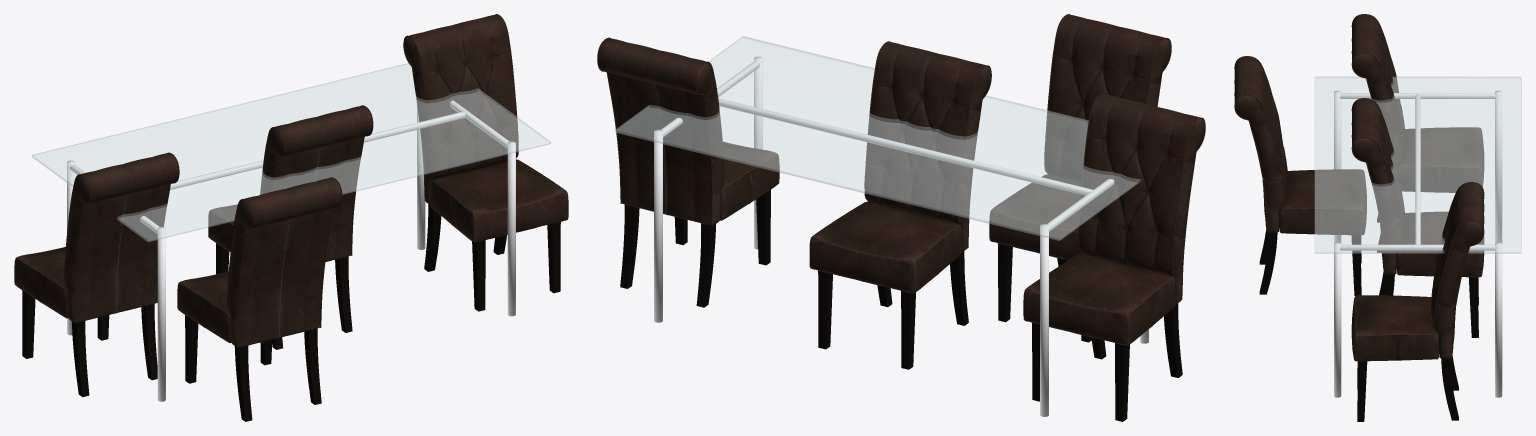
Rendered from h_tbl1.glb.
The picture shows the model from 3 angles, left to right: view 1: azimuth 30°, elevation 25°; view 2: azimuth 150°, elevation 25°; view 3: azimuth 270°, elevation 25°; orthographic projection. The views are drawn at different scales.
Visible parts, largest first — view 1: glass, dining_chair_02.001, dining_chair_02, dining_chair_02.002, dining_chair_02.003, leg.002, leg, rail.002, leg.003, rail.001; view 2: glass, dining_chair_02.003, dining_chair_02.002, dining_chair_02.001, dining_chair_02, rail.002, leg.003, leg.001, leg.002, rail, rail.001; view 3: glass, dining_chair_02.001, dining_chair_02, dining_chair_02.002, dining_chair_02.003, leg.003, leg.002, leg.001, rail.002, rail.001, rail, leg.
Part boxes in pixels (x1,y1,x2,y2): glass: (32,63,551,241); dining_chair_02.001: (403,14,568,311); dining_chair_02: (177,177,342,421); dining_chair_02.002: (14,152,179,397); dining_chair_02.003: (208,105,373,349); leg.002: (507,141,515,316); leg: (157,227,165,401); rail.002: (170,111,465,189); leg.003: (417,105,425,249); rail.001: (450,100,509,148); glass: (615,36,1140,240); dining_chair_02.003: (809,41,991,369); dining_chair_02.002: (1023,93,1205,421); dining_chair_02.001: (597,37,779,307); dining_chair_02: (989,14,1171,342); rail.002: (718,98,1093,195); leg.003: (654,129,662,322); leg.001: (1040,224,1048,416); leg.002: (754,56,762,249); rail: (1047,179,1114,231); rail.001: (661,61,759,137); glass: (1314,76,1521,253); dining_chair_02.001: (1351,182,1484,421); dining_chair_02: (1234,56,1366,295); dining_chair_02.002: (1351,14,1484,252); dining_chair_02.003: (1351,98,1484,337); leg.003: (1495,242,1502,397); leg.002: (1334,242,1341,397); leg.001: (1495,90,1502,242); rail.002: (1415,94,1420,244); rail.001: (1340,244,1496,250); rail: (1340,93,1496,98); leg: (1334,90,1341,243).
Bounding box in the file's own units: 1.91 × 0.8613 × 1.1.
3 materials, 1 textured.
